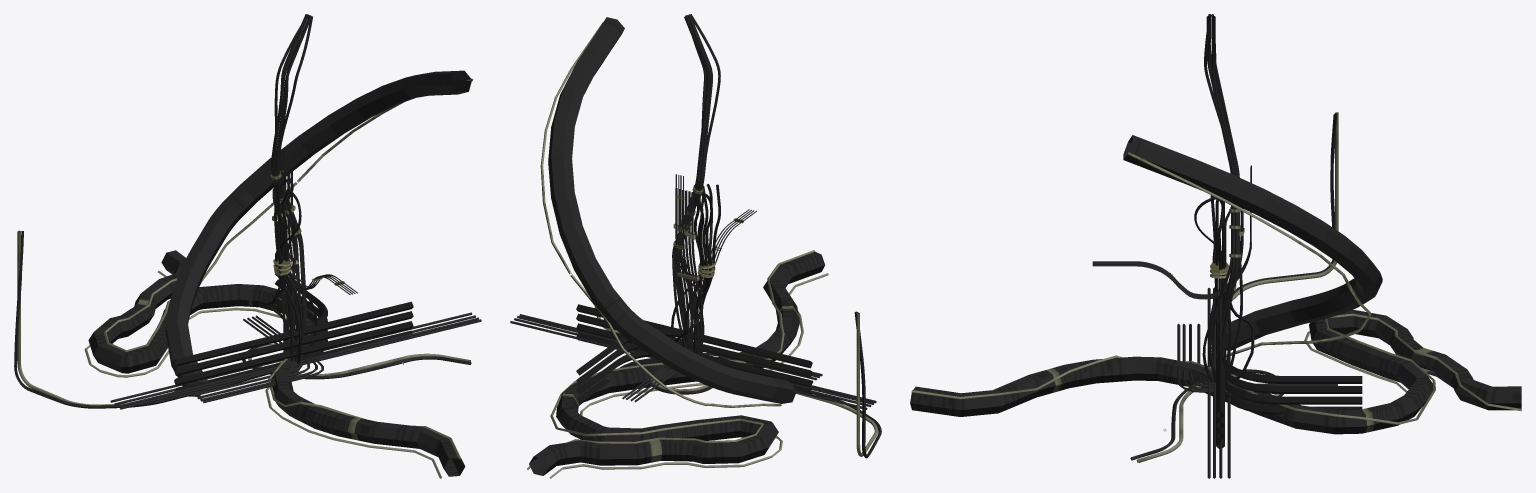
The model's file is CablesCollection1.fbx.
3 renders of one model, left to right at view 1: azimuth 30°, elevation 25°; view 2: azimuth 150°, elevation 25°; view 3: azimuth 270°, elevation 25°, orthographic. The views are drawn at different scales.
Visible parts, largest first — view 1: BigCableCurved2, BigCableCurved1, Cable4kit, CablesTangled2, Cables2kitCurved, Cable4kitHori, CablesTangled1, Cable4kitHoriCurved1, Cable4kitCurve, Cable6kitCurvedUp, Cable4kitAVine; view 2: BigCableCurved2, BigCableCurved1, Cable4kit, CablesTangled2, CablesTangled1, Cable6kitCurvedUp, Cable4kitCurve, Cables2kitCurved, Cable4kitHori, Cable4kitAVine, Cable4kitHoriCurved1; view 3: BigCableCurved2, BigCableCurved1, Cable4kitCurve, CablesTangled2, Cables2kitCurved, CablesTangled1, Cable4kitHori, Cable4kitHoriCurved1, Cable4kitAVine, Cable4kit.
Boxes of the visible parts, <box> form: BigCableCurved2: <box>84,250,465,478</box>; BigCableCurved1: <box>165,70,473,401</box>; Cable4kit: <box>174,301,413,391</box>; CablesTangled2: <box>270,14,312,361</box>; Cables2kitCurved: <box>14,230,471,408</box>; Cable4kitHori: <box>110,312,481,409</box>; CablesTangled1: <box>272,178,317,363</box>; Cable4kitHoriCurved1: <box>193,315,323,403</box>; Cable4kitCurve: <box>218,274,327,380</box>; Cable6kitCurvedUp: <box>272,169,301,359</box>; Cable4kitAVine: <box>277,149,357,294</box>; BigCableCurved2: <box>527,250,828,478</box>; BigCableCurved1: <box>540,17,795,407</box>; Cable4kit: <box>576,304,812,393</box>; CablesTangled2: <box>672,14,720,351</box>; CablesTangled1: <box>671,184,720,353</box>; Cable6kitCurvedUp: <box>673,188,702,356</box>; Cable4kitCurve: <box>576,329,767,403</box>; Cables2kitCurved: <box>594,307,881,458</box>; Cable4kitHori: <box>510,314,876,409</box>; Cable4kitAVine: <box>675,174,756,281</box>; Cable4kitHoriCurved1: <box>622,351,822,402</box>; BigCableCurved2: <box>910,310,1521,434</box>; BigCableCurved1: <box>1123,135,1382,357</box>; Cable4kitCurve: <box>1222,355,1362,414</box>; CablesTangled2: <box>1204,14,1242,382</box>; Cables2kitCurved: <box>1130,112,1338,462</box>; CablesTangled1: <box>1194,195,1231,382</box>; Cable4kitHori: <box>1207,287,1230,478</box>; Cable4kitHoriCurved1: <box>1177,323,1337,392</box>; Cable4kitAVine: <box>1092,165,1251,299</box>; Cable4kit: <box>1216,289,1224,448</box>.
Bounding box in the file's own units: 337 × 290 × 408.
